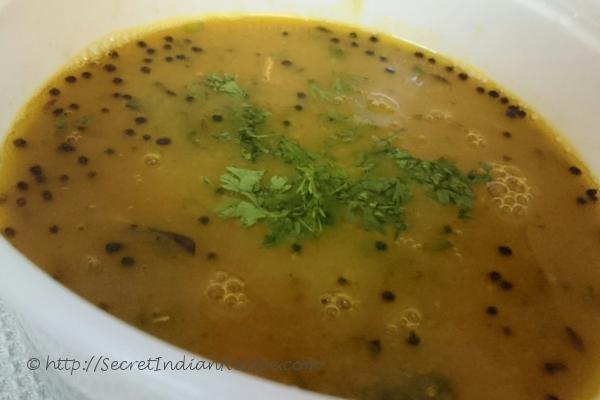varan: (20, 19, 600, 397)
